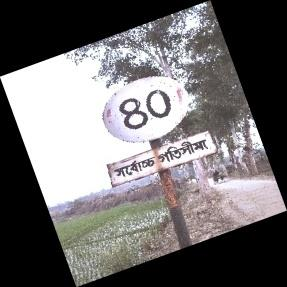Speed-limit: (102, 75, 215, 188)
